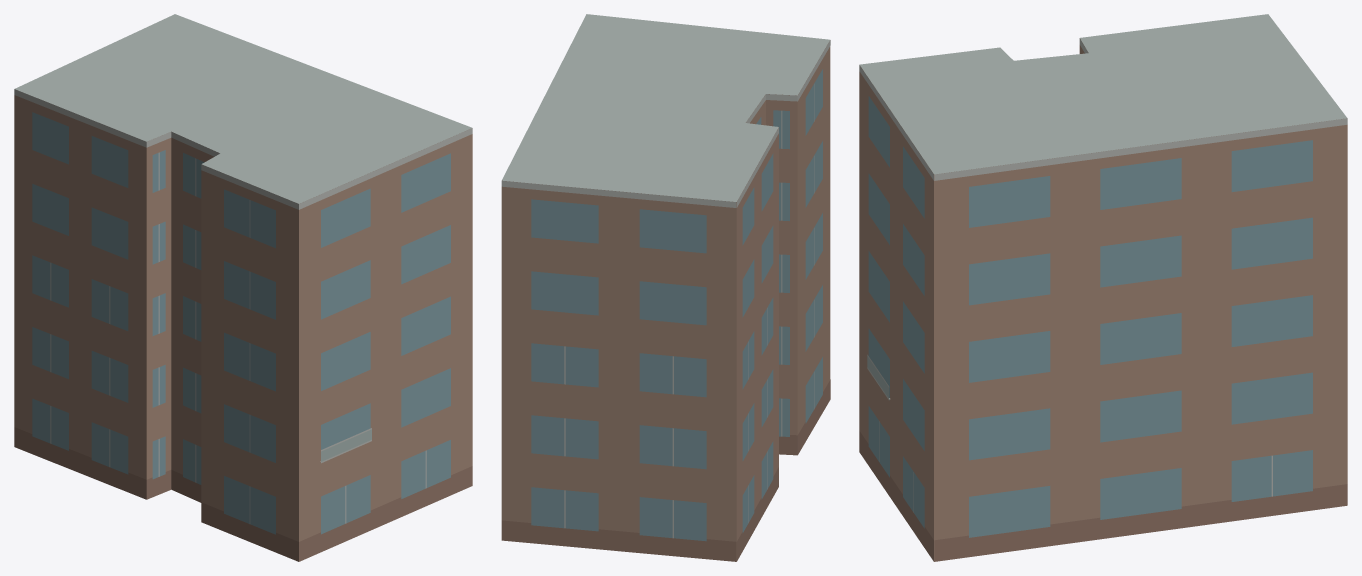
Rendered from survey-upis-32578194.glb.
3 views of the same model, side by side, from view 1: azimuth 30°, elevation 25°; view 2: azimuth 150°, elevation 25°; view 3: azimuth 270°, elevation 25° (orthographic). The views are drawn at different scales.
Parts seen in each view (by area): view 1: survey-upis-32578194.tmp; view 2: survey-upis-32578194.tmp; view 3: survey-upis-32578194.tmp.
Part boxes in pixels (x1=…): survey-upis-32578194.tmp: x1=14, y1=14, x2=472, y2=561; survey-upis-32578194.tmp: x1=501, y1=14, x2=830, y2=561; survey-upis-32578194.tmp: x1=859, y1=14, x2=1347, y2=561.
Bounding box in the file's own units: 12.98 × 14.6 × 16.69.
